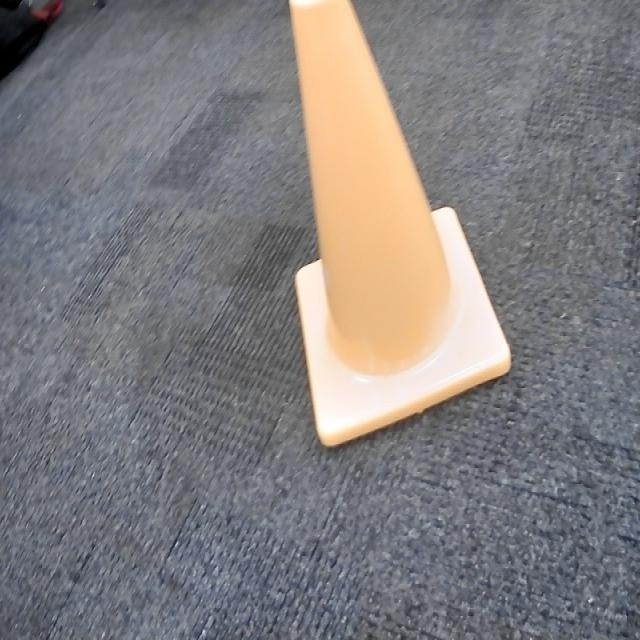cone: (291, 3, 514, 454)
